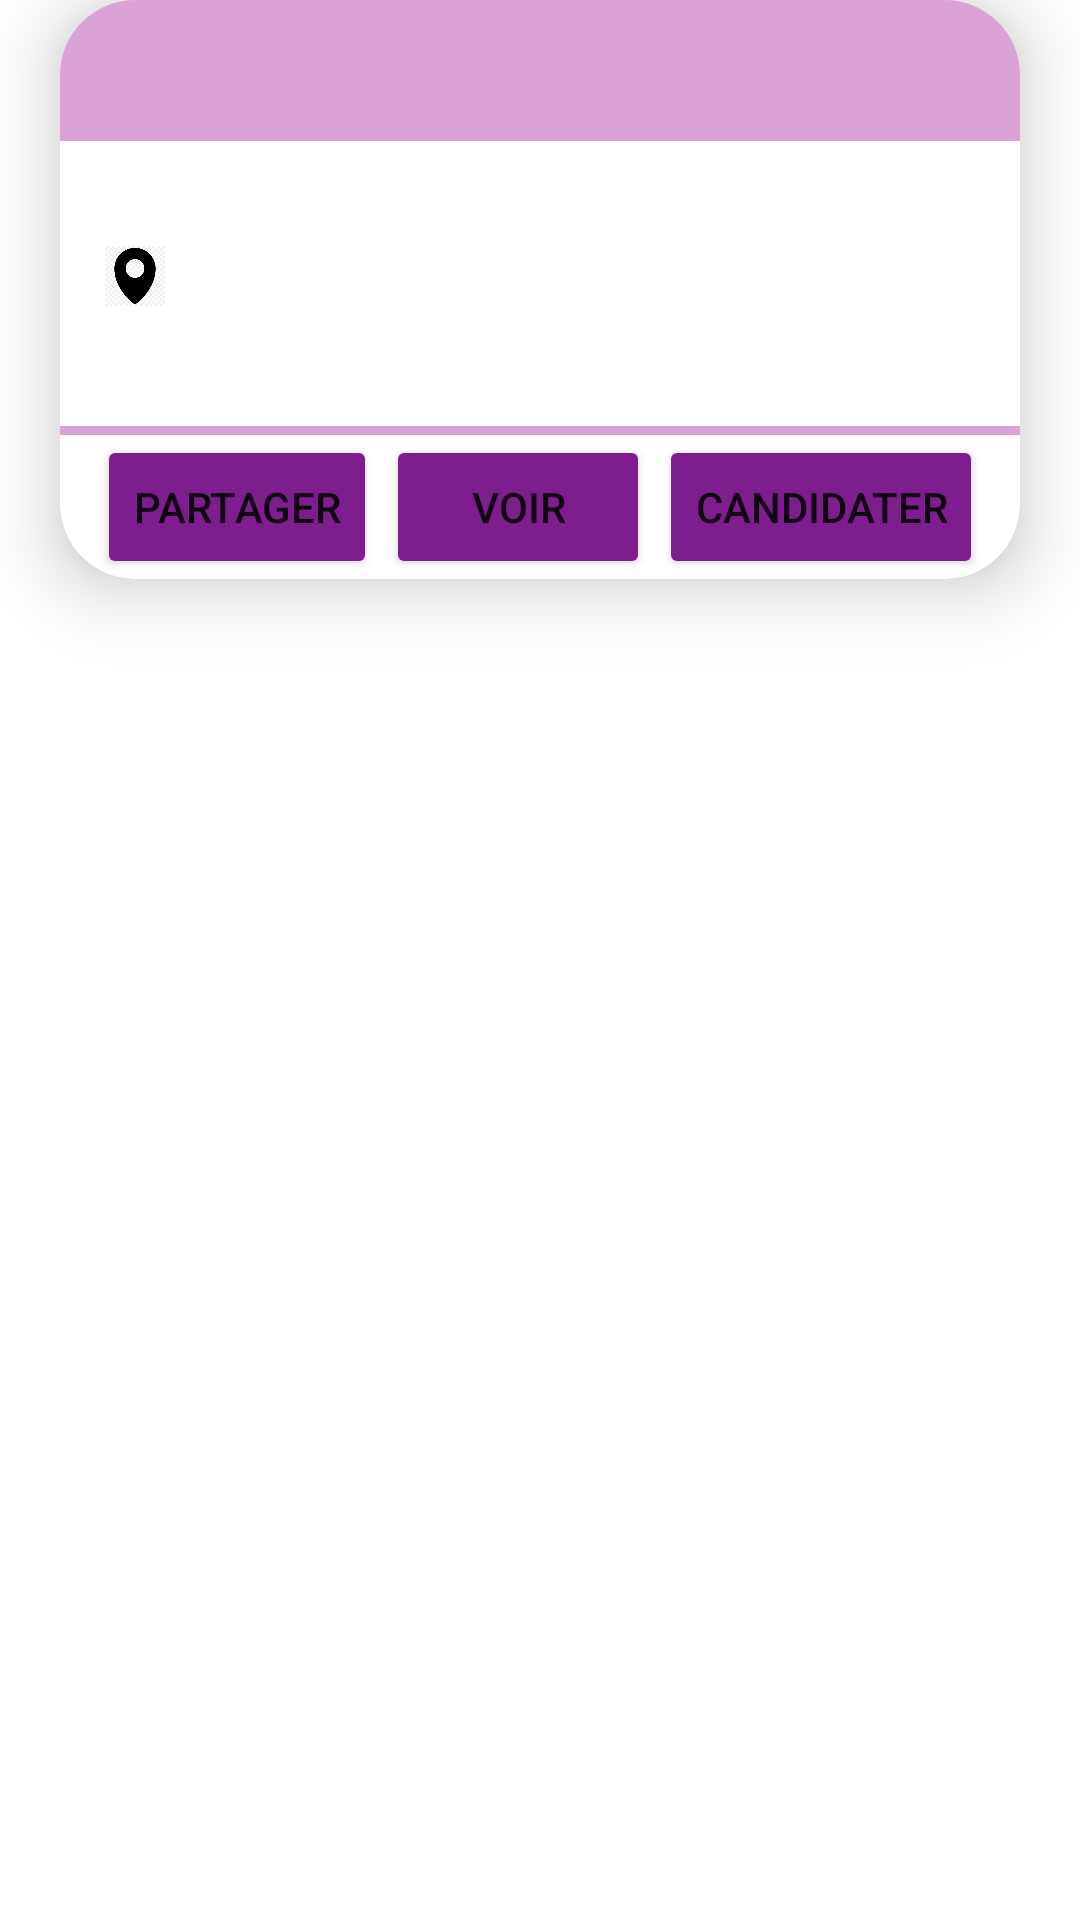

Point at icon controls on the screen. Image size 1080w x 1920h, points as (x,y).
loc: (135,276)
